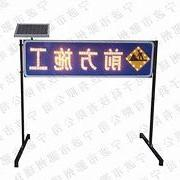sign: (23, 39, 155, 78)
